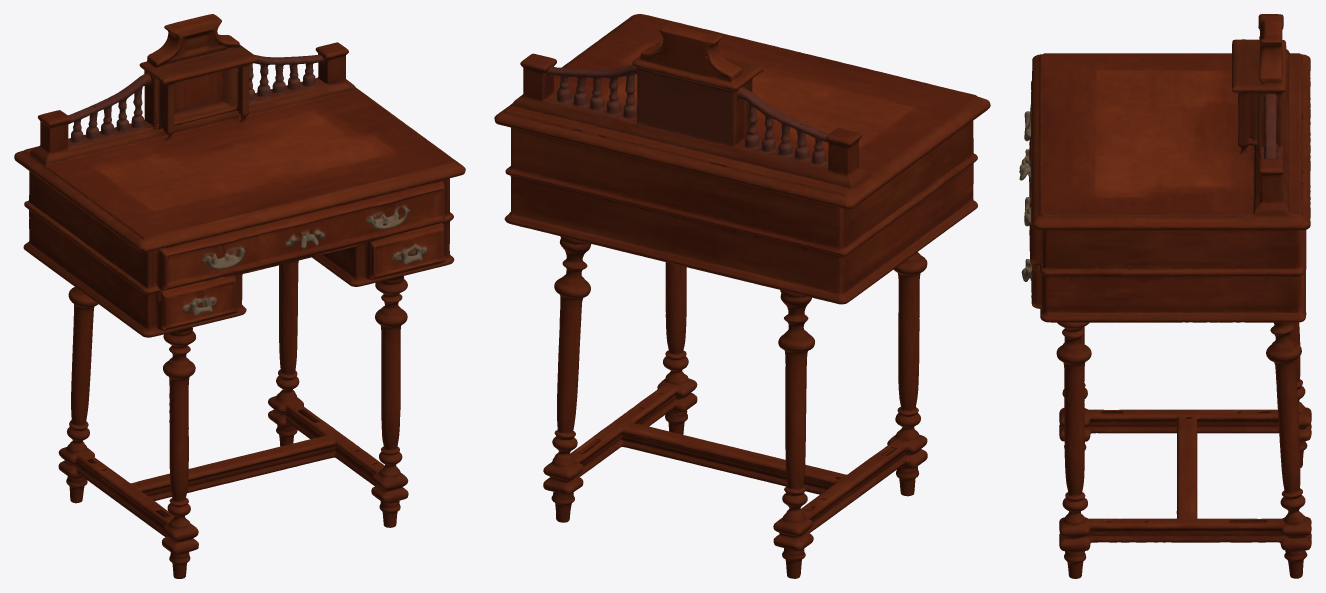
The model's file is Regency Style Writing Desk with Gallery Back [Hb6HO9].glb.
The picture shows the model from 3 angles, left to right: view 1: azimuth 30°, elevation 25°; view 2: azimuth 150°, elevation 25°; view 3: azimuth 270°, elevation 25°; orthographic projection. The views are drawn at different scales.
Visible parts, largest first — view 1: world; view 2: world; view 3: world.
Part boxes in pixels (bbox=[...]): world: bbox=[14, 14, 465, 578]; world: bbox=[494, 14, 990, 578]; world: bbox=[1019, 14, 1311, 578].
Bounding box in the file's own units: 0.745 × 1 × 0.5392.
Materials: 1 (1 with a texture image).
